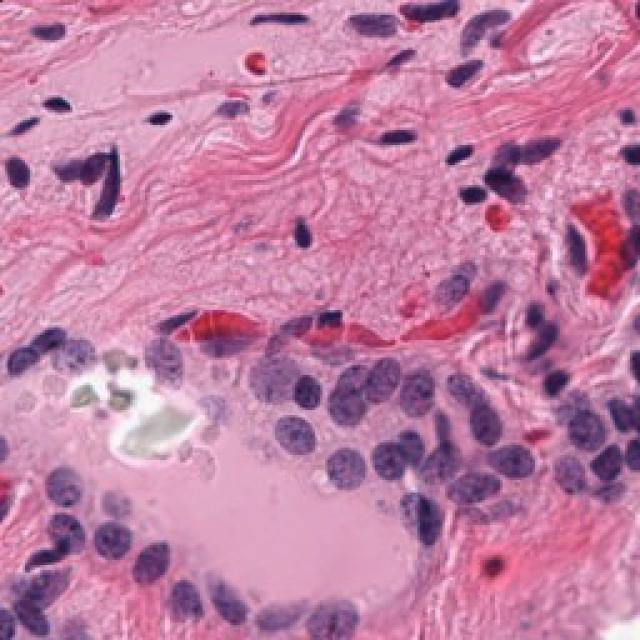normal: (397, 356, 460, 432), (457, 387, 520, 460), (32, 445, 92, 516), (266, 399, 324, 471), (249, 347, 314, 411), (484, 429, 532, 507), (121, 531, 183, 591), (560, 401, 620, 463), (348, 440, 422, 489), (316, 436, 366, 507), (82, 488, 131, 560), (206, 567, 257, 636), (330, 379, 375, 435)
